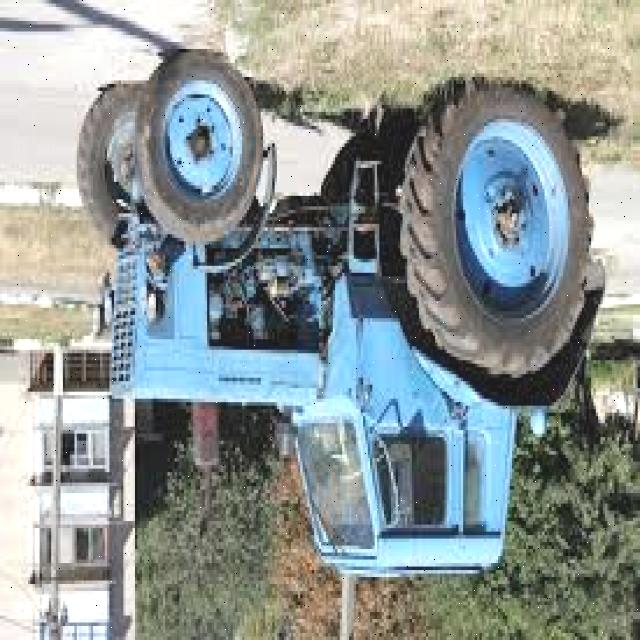Tratores - v5 YOLO V8L 2024-11-13: (80, 41, 612, 584)
